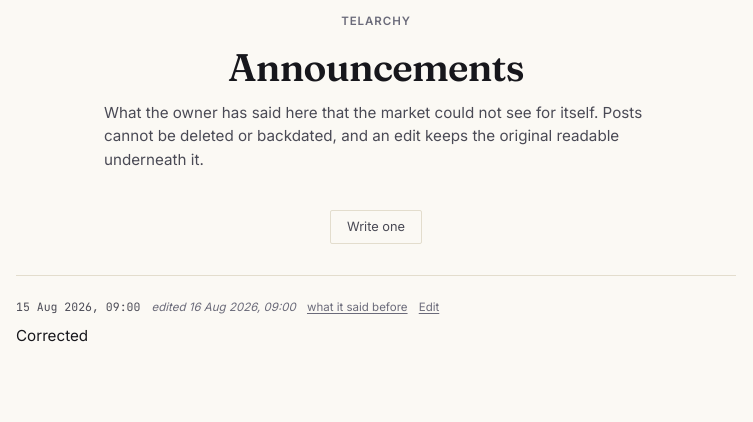
it: the announcements page › an edited announcement says so, and can show what it replaced
expect the text "edited 16 Aug 2026, 09:00" is shown: met, box [152,300,296,317]
Step 1. Click the button "what it said before" → (357, 308), box [307,300,408,317]
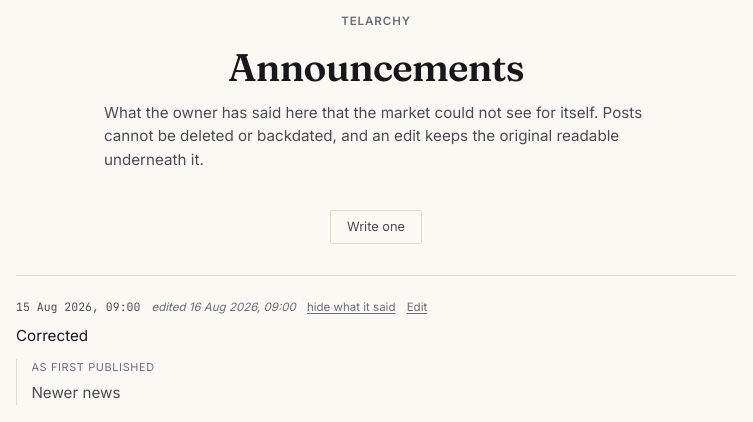
expect the text "As first published" is shown: met, box [31,360,155,374]
expect the text "Newer news" is shown: met, box [31,383,120,402]
